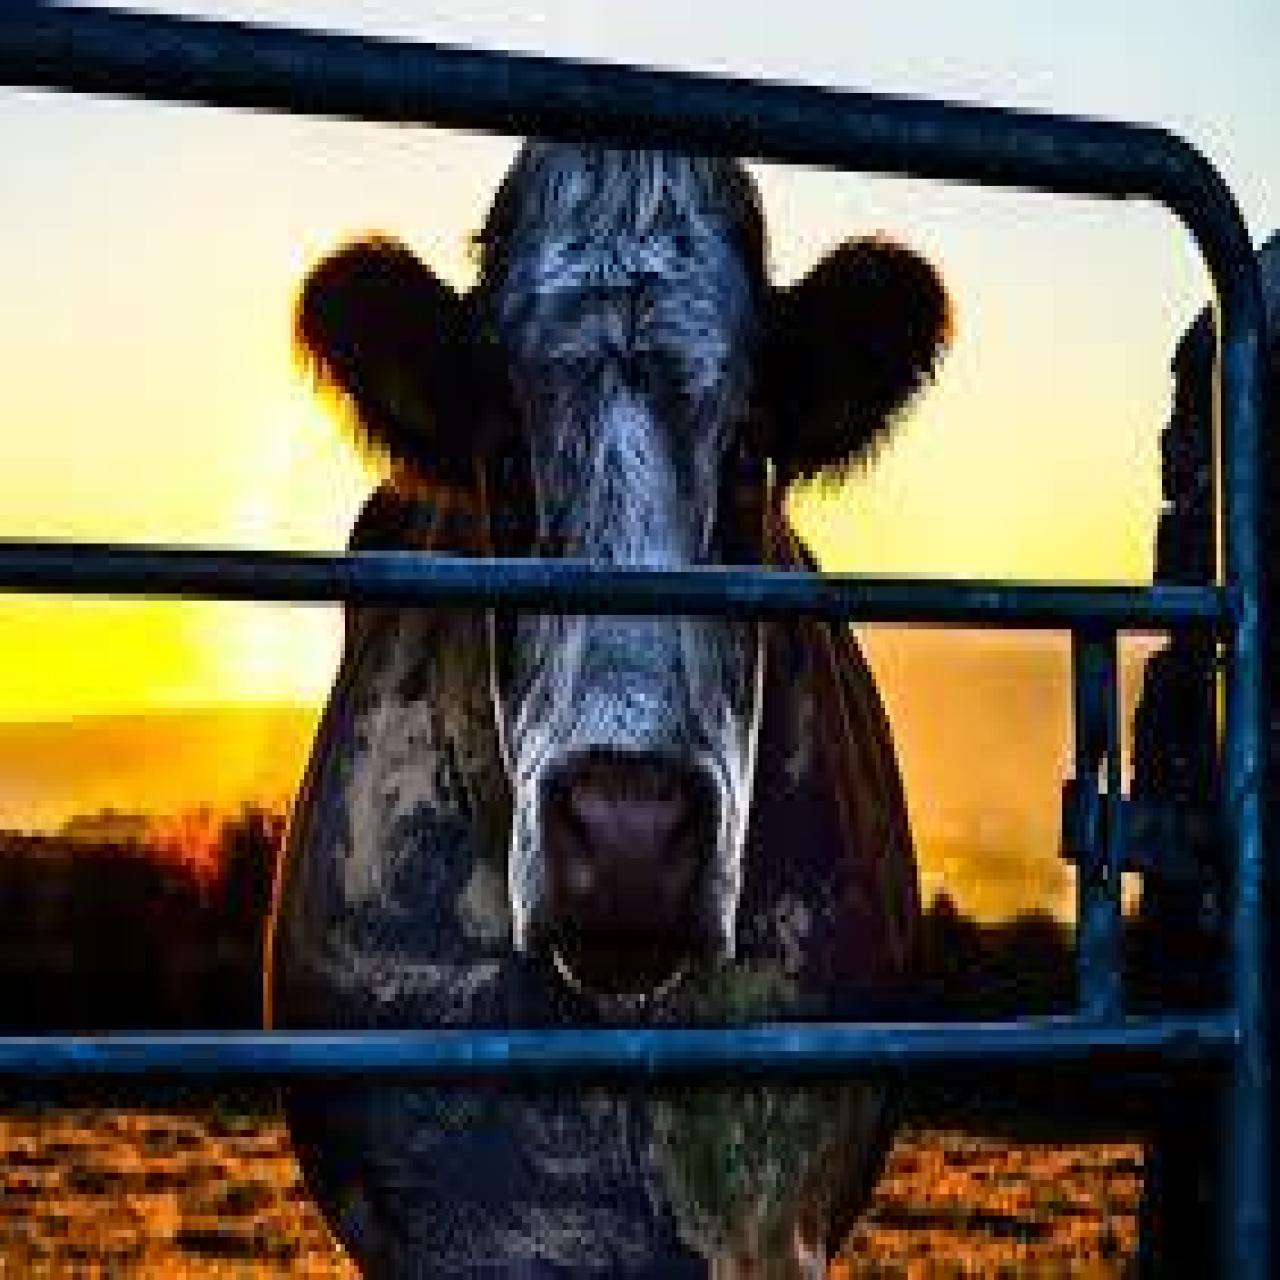cow: (258, 128, 956, 1280)
